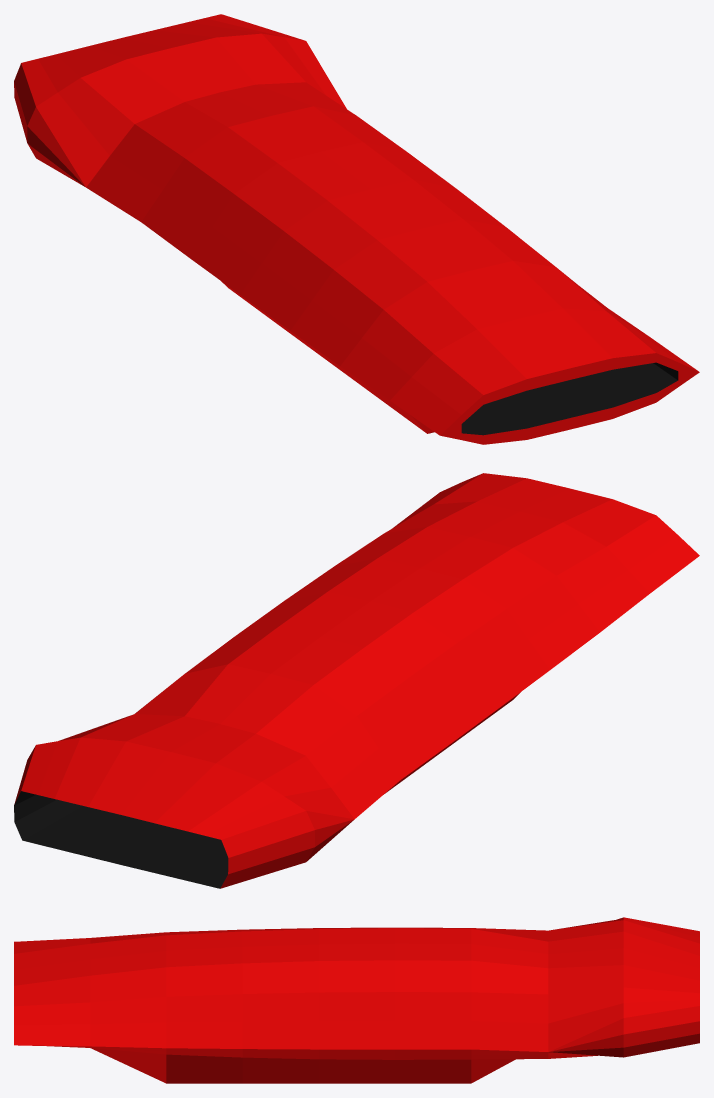
The model's file is C0.Cowl.3e.Export.glb.
The picture shows the model from 3 angles, top to bottom: view 1: azimuth 30°, elevation 25°; view 2: azimuth 150°, elevation 25°; view 3: azimuth 270°, elevation 25°; orthographic projection. The views are drawn at different scales.
Parts seen in each view (by area): view 1: Cube.002; view 2: Cube.002; view 3: Cube.002.
Part boxes in pixels (x1,y1,x2,y2): Cube.002: (14,14,699,444); Cube.002: (14,473,699,888); Cube.002: (14,917,699,1083).
Bounding box in the file's own units: 0.6595 × 0.3551 × 1.78.
